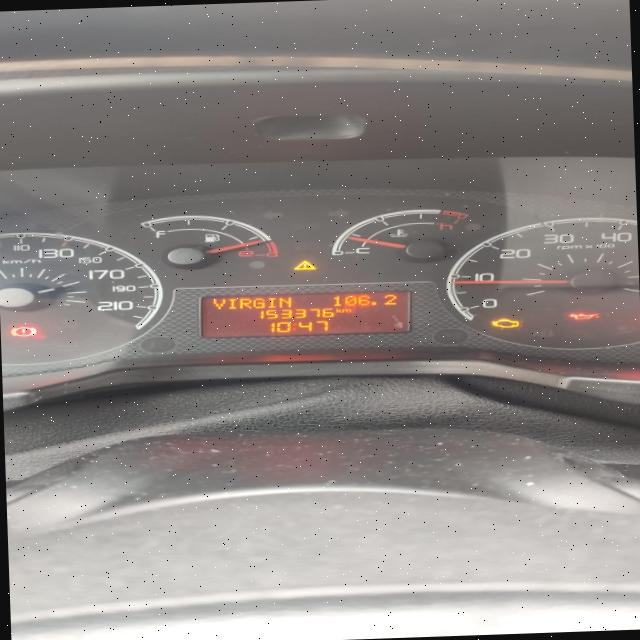odometer: (196, 284, 416, 342)
